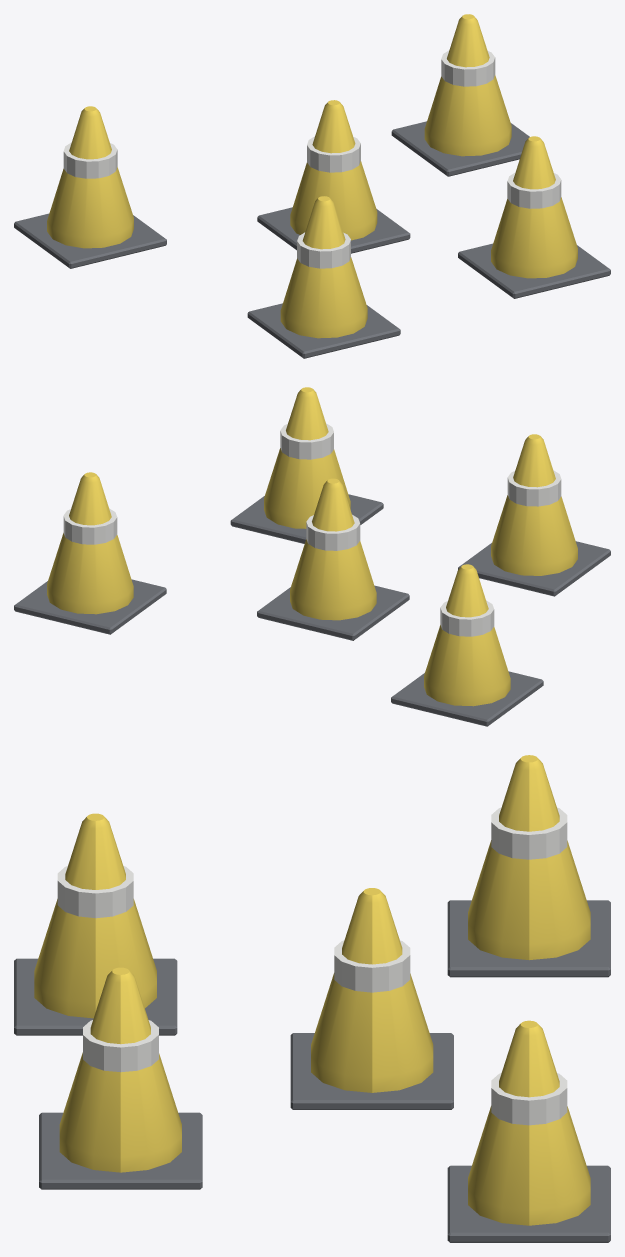
Rendered from ice-hockey-arena-and-locker-room-drill-cone-set-428c5f59__33711.glb.
The picture shows the model from 3 angles, top to bottom: view 1: azimuth 30°, elevation 25°; view 2: azimuth 150°, elevation 25°; view 3: azimuth 270°, elevation 25°; orthographic projection. The views are drawn at different scales.
Visible parts, largest first — view 1: drill-cone-set; view 2: drill-cone-set; view 3: drill-cone-set.
Part boxes in pixels (box(x1,y1,x2,y2)): drill-cone-set: box(14, 14, 610, 358); drill-cone-set: box(14, 387, 610, 726); drill-cone-set: box(14, 755, 610, 1242).
Size of the model in its own units: 1.26 by 0.325 by 0.9501.
